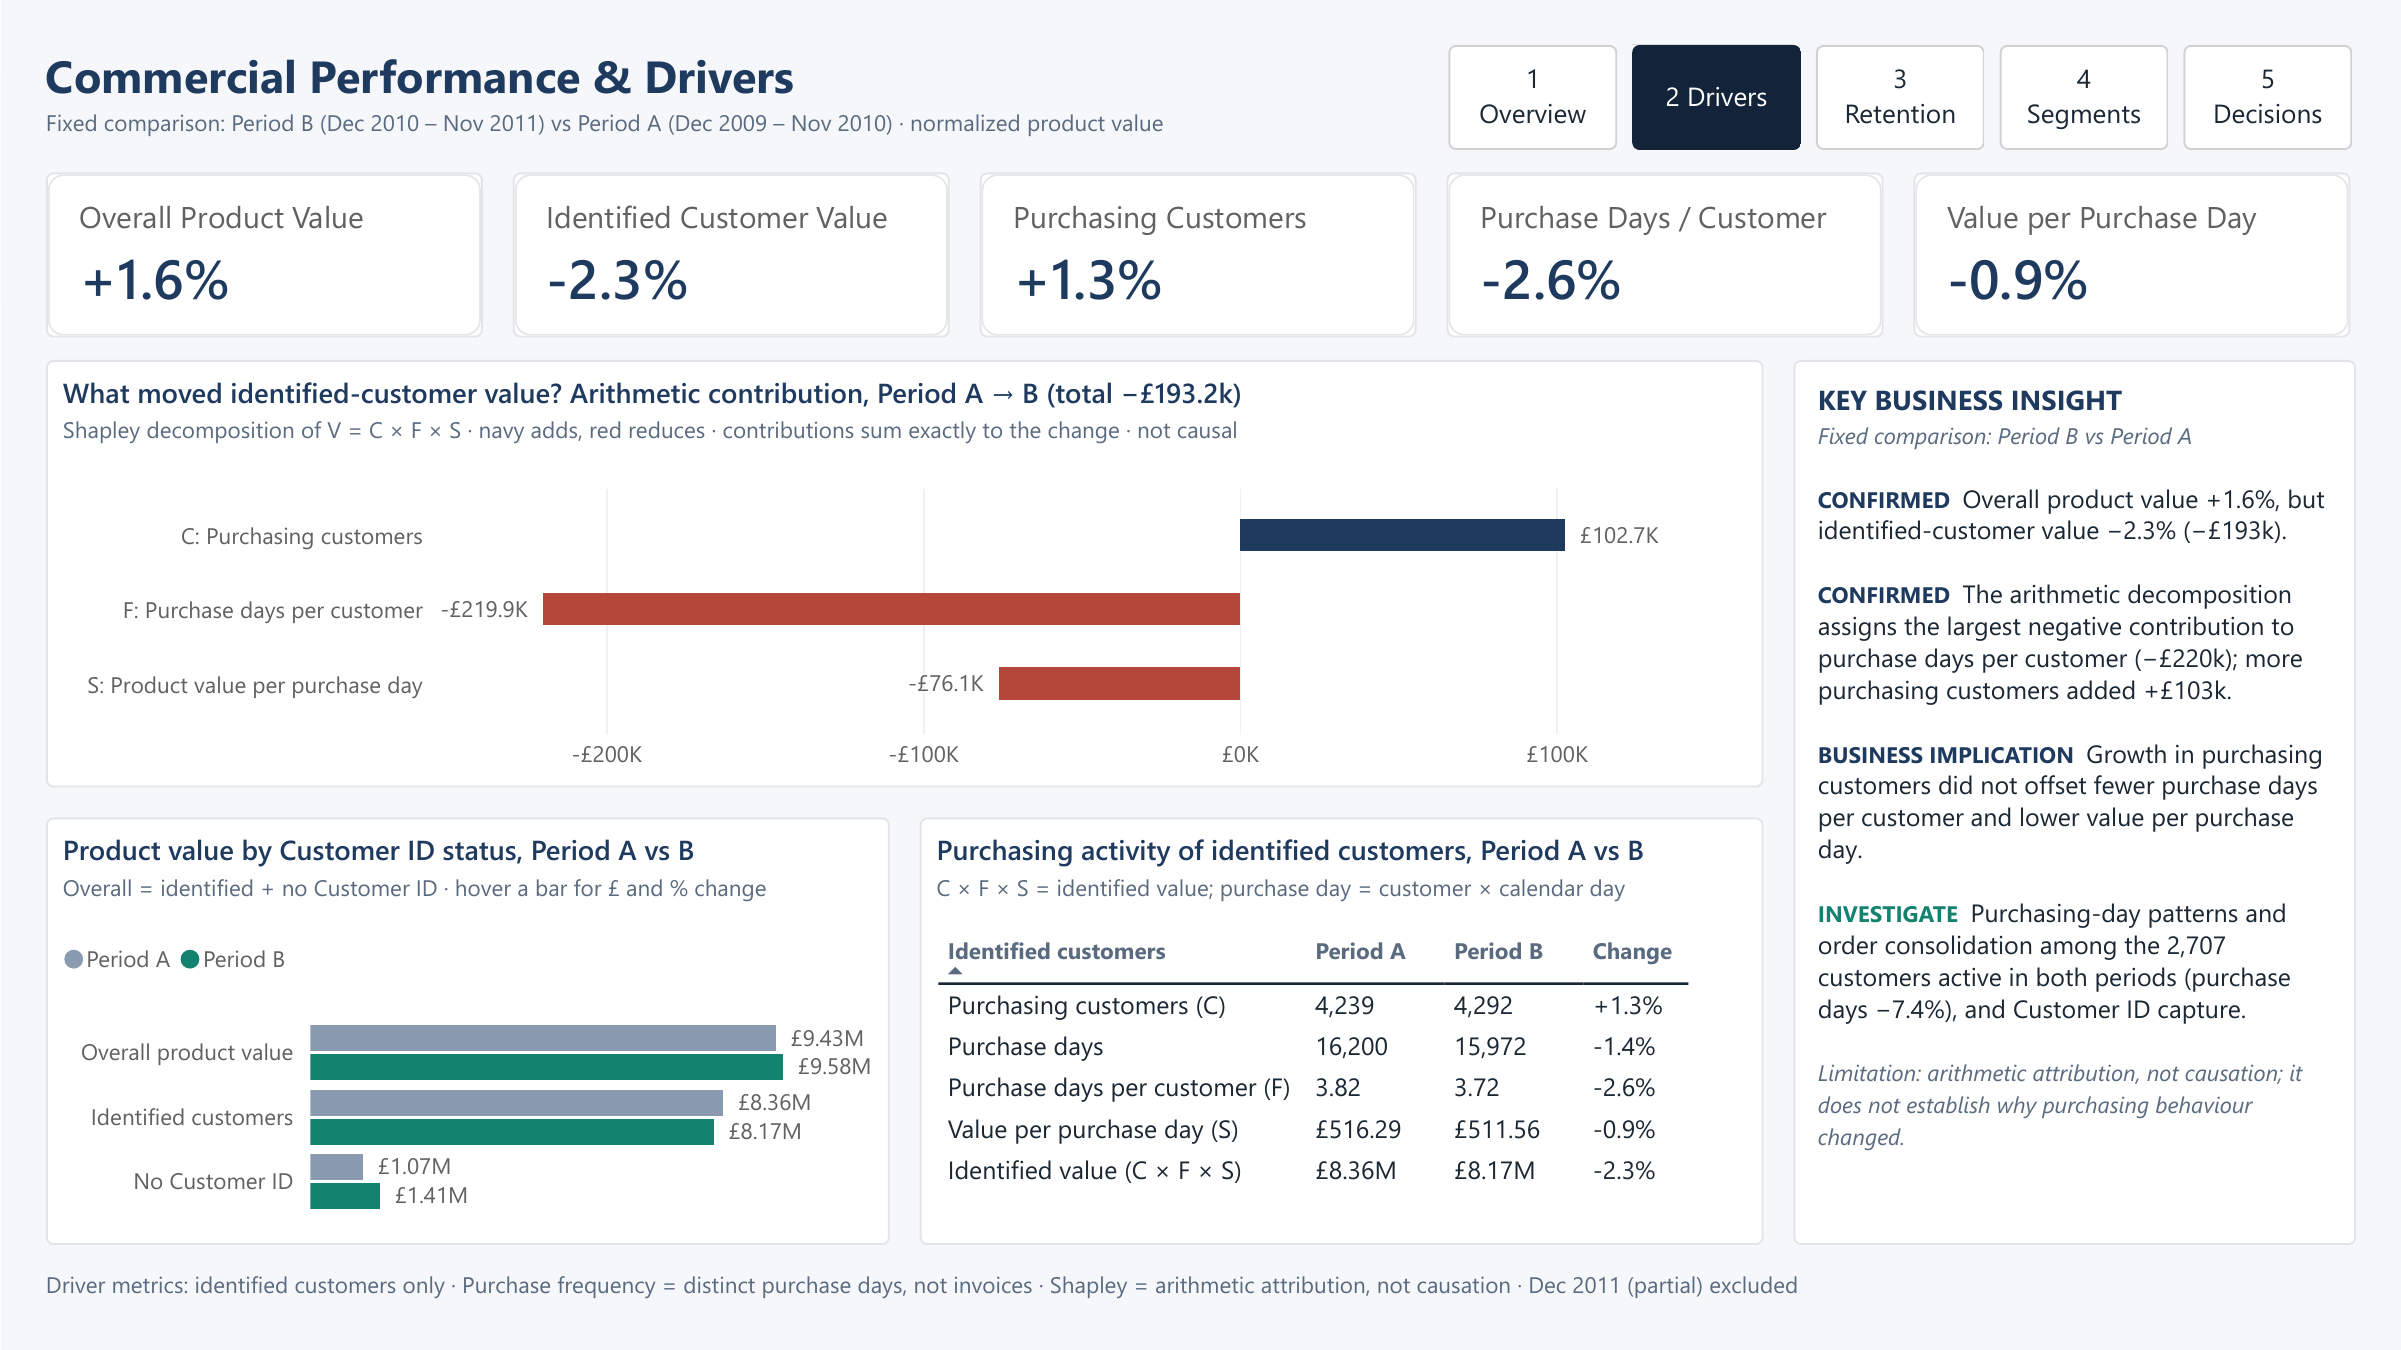

The dashboard page shown, as its layout file describes it:
{"tool":"powerbi","page":{"name":"2 Drivers","canvas":[1280,720],"ordinal":1},"visuals":[{"type":"textbox","box":[24,24,740,56],"z":10},{"type":"pageNavigator","box":[772,24,484,56],"z":22},{"type":"cardVisual","fields":{"Data":["_Measures.P2 Card Overall Change"]},"box":[24,92,233,88],"z":30},{"type":"cardVisual","fields":{"Data":["_Measures.P2 Card Identified Change"]},"box":[273,92,233,88],"z":31},{"type":"cardVisual","fields":{"Data":["_Measures.P2 Card Customers Change"]},"box":[522,92,233,88],"z":32},{"type":"cardVisual","fields":{"Data":["_Measures.P2 Card Frequency Change"]},"box":[771,92,233,88],"z":33},{"type":"cardVisual","fields":{"Data":["_Measures.P2 Card Value per Day Change"]},"box":[1020,92,233,88],"z":34},{"type":"clusteredBarChart","title":"What moved identified-customer value? Arithmetic contribution, Period A → B (total −£193.2k)","fields":{"Category":["ref_driver_decomposition.driver"],"Y":["_Measures.Driver Contribution"]},"box":[24,192,916,228],"z":40},{"type":"clusteredBarChart","title":"Product value by Customer ID status, Period A vs B","fields":{"Category":["p2_value_line.line"],"Y":["_Measures.P2 Value Period A","_Measures.P2 Value Period B"]},"box":[24,436,450,228],"z":41},{"type":"tableEx","title":"Purchasing activity of identified customers, Period A vs B","fields":{"Values":["p2_activity_line.line","_Measures.P2 Activity Period A Text","_Measures.P2 Activity Period B Text","_Measures.P2 Activity Change Text"]},"box":[490,436,450,228],"z":42},{"type":"textbox","box":[956,192,300,472],"z":50},{"type":"textbox","box":[24,676,1232,20],"z":60}]}

Visuals, with their boxes in screenshot pixels (x1, y1, x2, y2), scaled from the page's 1280x720 canvas onto the 2401x1350 screenshot:
textbox: x1=45 y1=45 x2=1433 y2=150
pageNavigator: x1=1448 y1=45 x2=2356 y2=150
cardVisual - _Measures.P2 Card Overall Change: x1=45 y1=172 x2=482 y2=338
cardVisual - _Measures.P2 Card Identified Change: x1=512 y1=172 x2=949 y2=338
cardVisual - _Measures.P2 Card Customers Change: x1=979 y1=172 x2=1416 y2=338
cardVisual - _Measures.P2 Card Frequency Change: x1=1446 y1=172 x2=1883 y2=338
cardVisual - _Measures.P2 Card Value per Day Change: x1=1913 y1=172 x2=2350 y2=338
"What moved identified-customer value? Arithmetic contribution, Period A → B (total −£193.2k)" clusteredBarChart: x1=45 y1=360 x2=1763 y2=788
"Product value by Customer ID status, Period A vs B" clusteredBarChart: x1=45 y1=818 x2=889 y2=1245
"Purchasing activity of identified customers, Period A vs B" tableEx: x1=919 y1=818 x2=1763 y2=1245
textbox: x1=1793 y1=360 x2=2356 y2=1245
textbox: x1=45 y1=1268 x2=2356 y2=1305
